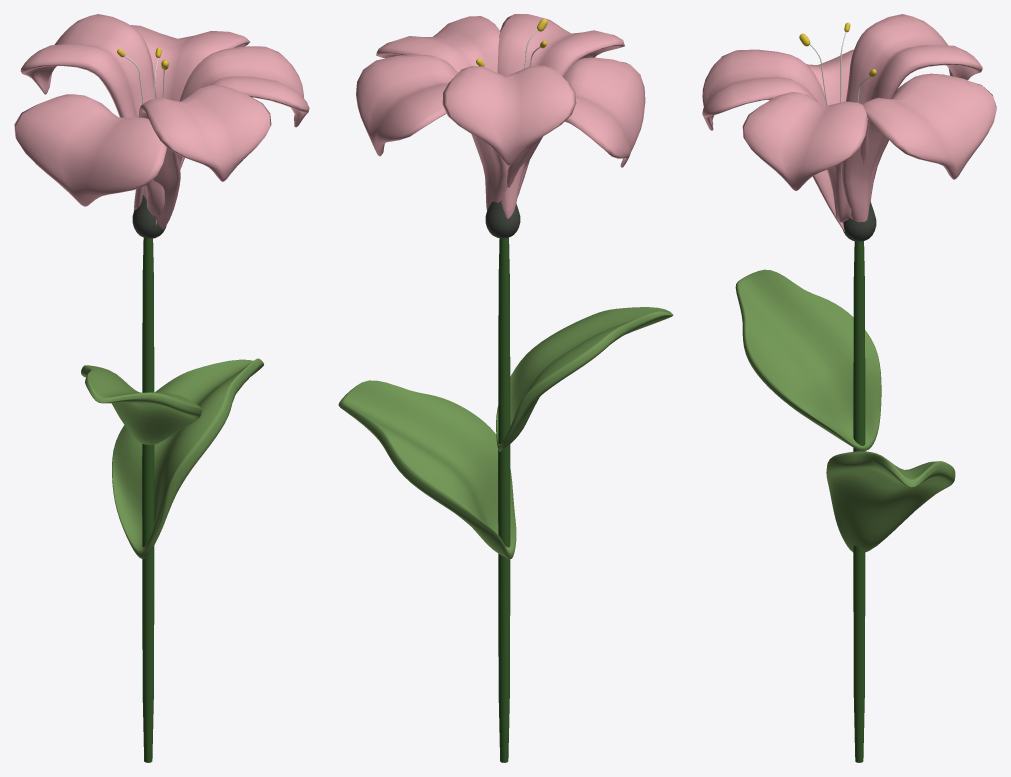
Rendered from flower9.fbx.
The picture shows the model from 3 angles, left to right: view 1: azimuth 30°, elevation 25°; view 2: azimuth 150°, elevation 25°; view 3: azimuth 270°, elevation 25°; orthographic projection.
Visible parts, largest first — view 1: flower17_group73_pCube14, pCylinder27; view 2: flower17_group73_pCube14, pCylinder27; view 3: flower17_group73_pCube14, pCylinder27.
Part boxes in pixels (bbox=[...]): flower17_group73_pCube14: bbox=[14, 14, 309, 558]; pCylinder27: bbox=[142, 237, 154, 762]; flower17_group73_pCube14: bbox=[338, 14, 673, 559]; pCylinder27: bbox=[498, 237, 510, 762]; flower17_group73_pCube14: bbox=[702, 14, 996, 552]; pCylinder27: bbox=[853, 241, 865, 762].
Size of the model in its own units: 11.3 by 29.98 by 11.09.
